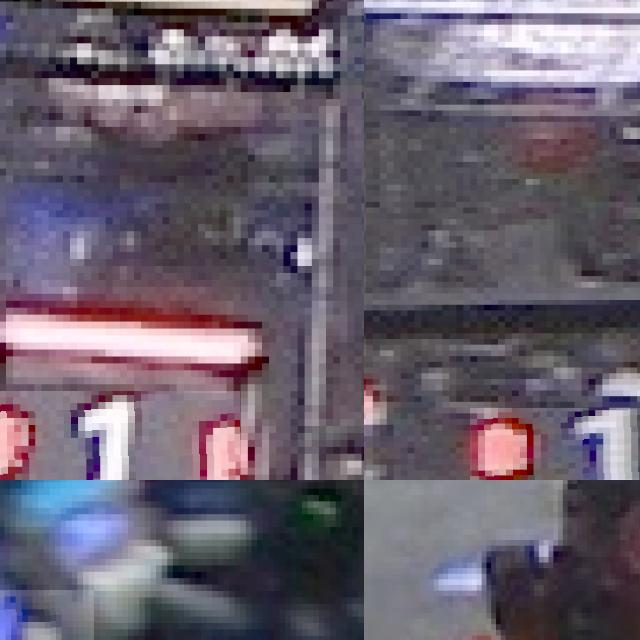B1: (0, 590, 94, 640)
R1: (0, 391, 240, 480), (470, 407, 640, 480)
